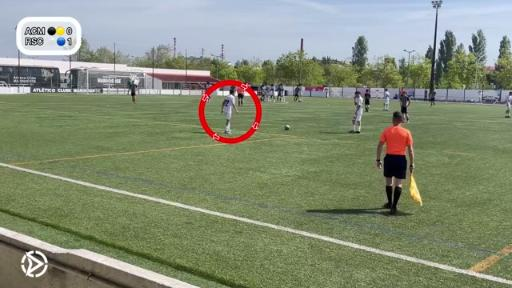highlight_overlay: (198, 79, 263, 144)
